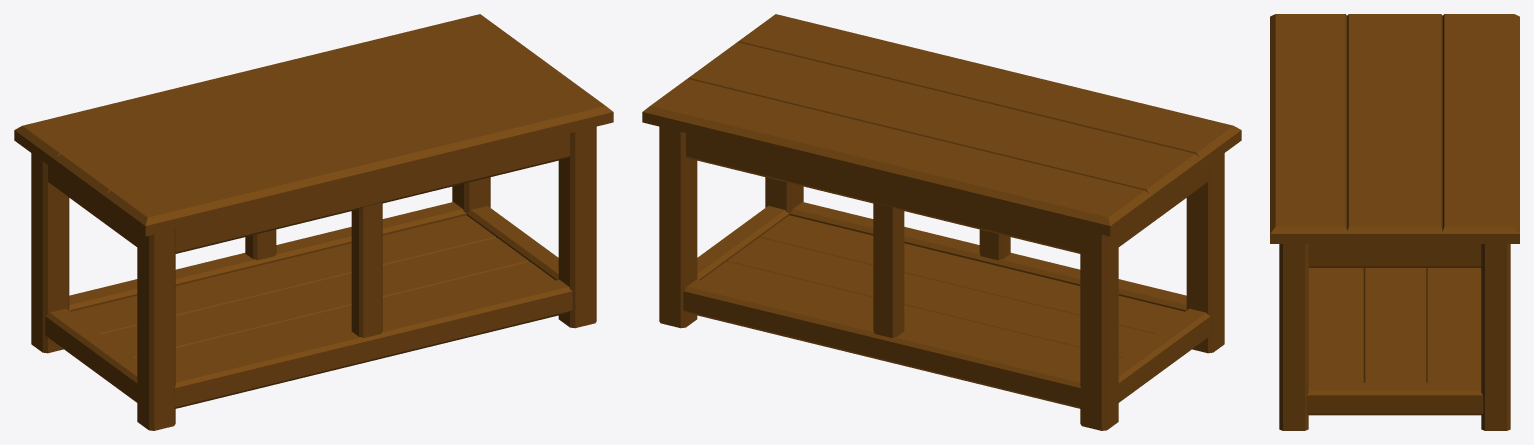
The model's file is SM_Furniture_PrepCounter_Umber_02.fbx.
3 views of the same model, side by side, from view 1: azimuth 30°, elevation 25°; view 2: azimuth 150°, elevation 25°; view 3: azimuth 270°, elevation 25° (orthographic). The views are drawn at different scales.
Visible parts, largest first — view 1: SM_Furniture_PrepCounter_Umber_02; view 2: SM_Furniture_PrepCounter_Umber_02; view 3: SM_Furniture_PrepCounter_Umber_02.
Part boxes in pixels (x1=…): SM_Furniture_PrepCounter_Umber_02: x1=14, y1=14, x2=613, y2=430; SM_Furniture_PrepCounter_Umber_02: x1=642, y1=14, x2=1241, y2=430; SM_Furniture_PrepCounter_Umber_02: x1=1270, y1=14, x2=1519, y2=430.
Bounding box in the file's own units: 1.4 × 0.62 × 0.68.
1 material, 1 textured.
